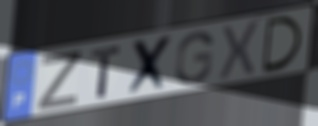D: (261, 14, 305, 75)
G: (173, 30, 215, 86)
T: (89, 44, 124, 101)
X: (125, 32, 175, 98), (217, 17, 262, 82)
Z: (35, 49, 83, 112)
